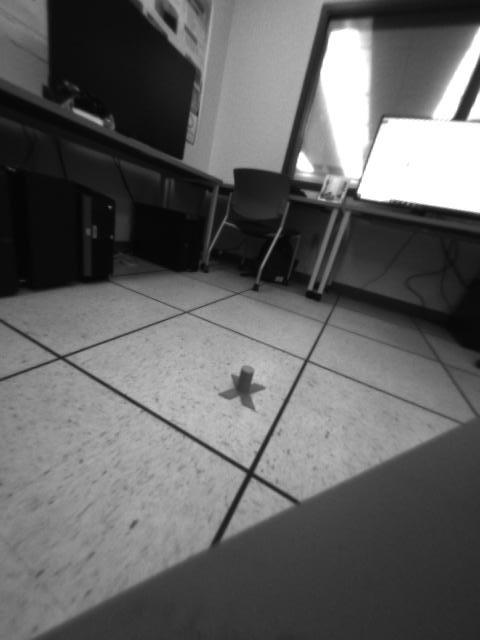X: (219, 365, 267, 412)
